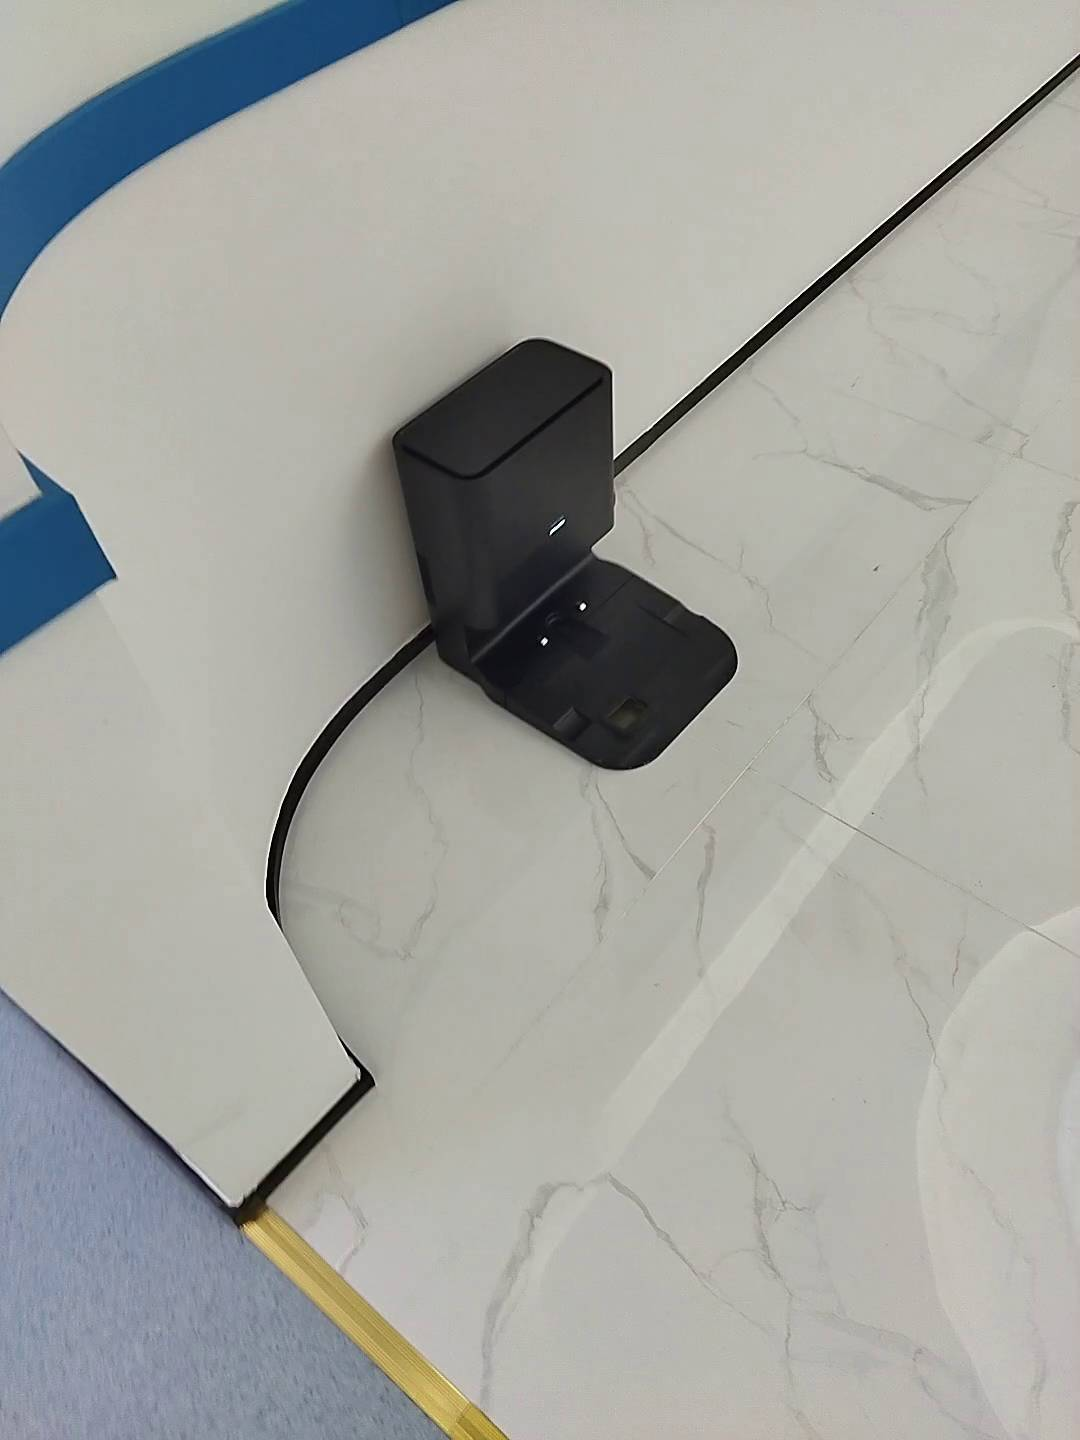dust collecting barrel: (390, 334, 741, 773)
